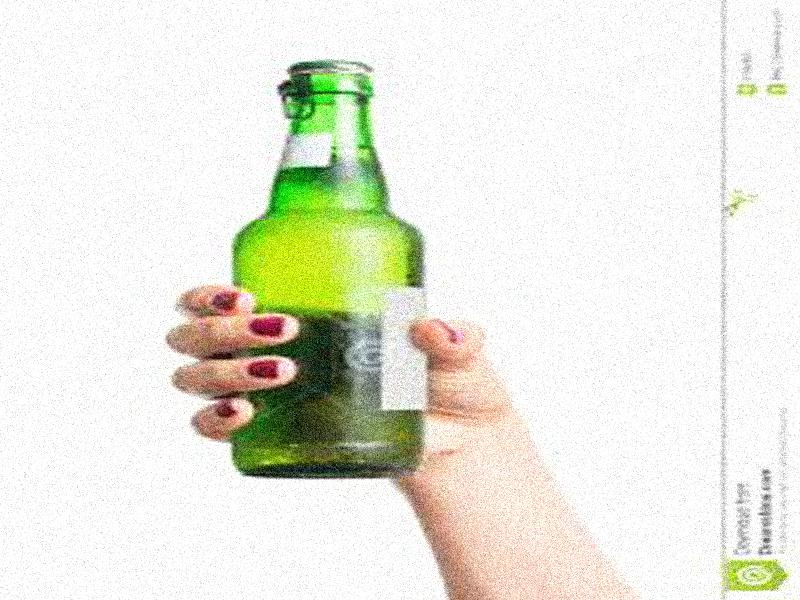Beer: (232, 57, 431, 479)
